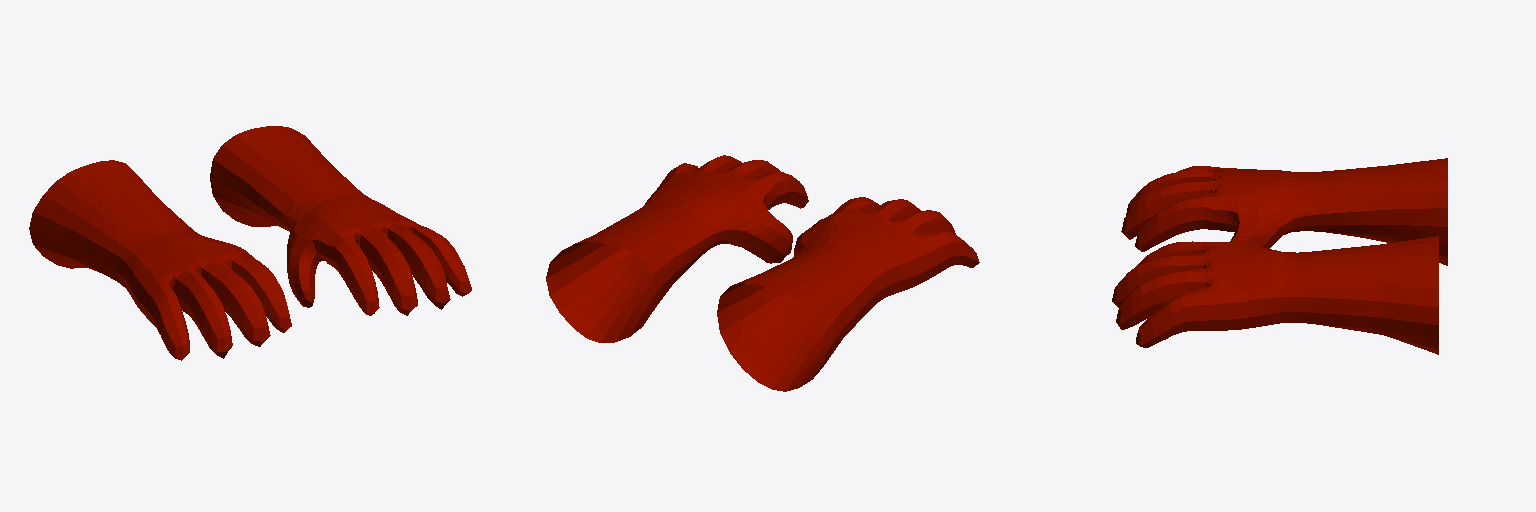
3 views of the same model, side by side, from view 1: azimuth 30°, elevation 25°; view 2: azimuth 150°, elevation 25°; view 3: azimuth 270°, elevation 25° (orthographic).
Visible parts, largest first — view 1: 绝缘手套; view 2: 绝缘手套; view 3: 绝缘手套.
Part boxes in pixels (bbox=[...]): 绝缘手套: bbox=[29, 126, 471, 360]; 绝缘手套: bbox=[546, 155, 979, 391]; 绝缘手套: bbox=[1112, 158, 1447, 354].
Size of the model in its own units: 1.54 by 0.5039 by 1.51.